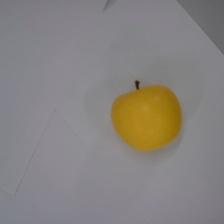yellow: (108, 74, 186, 154)
